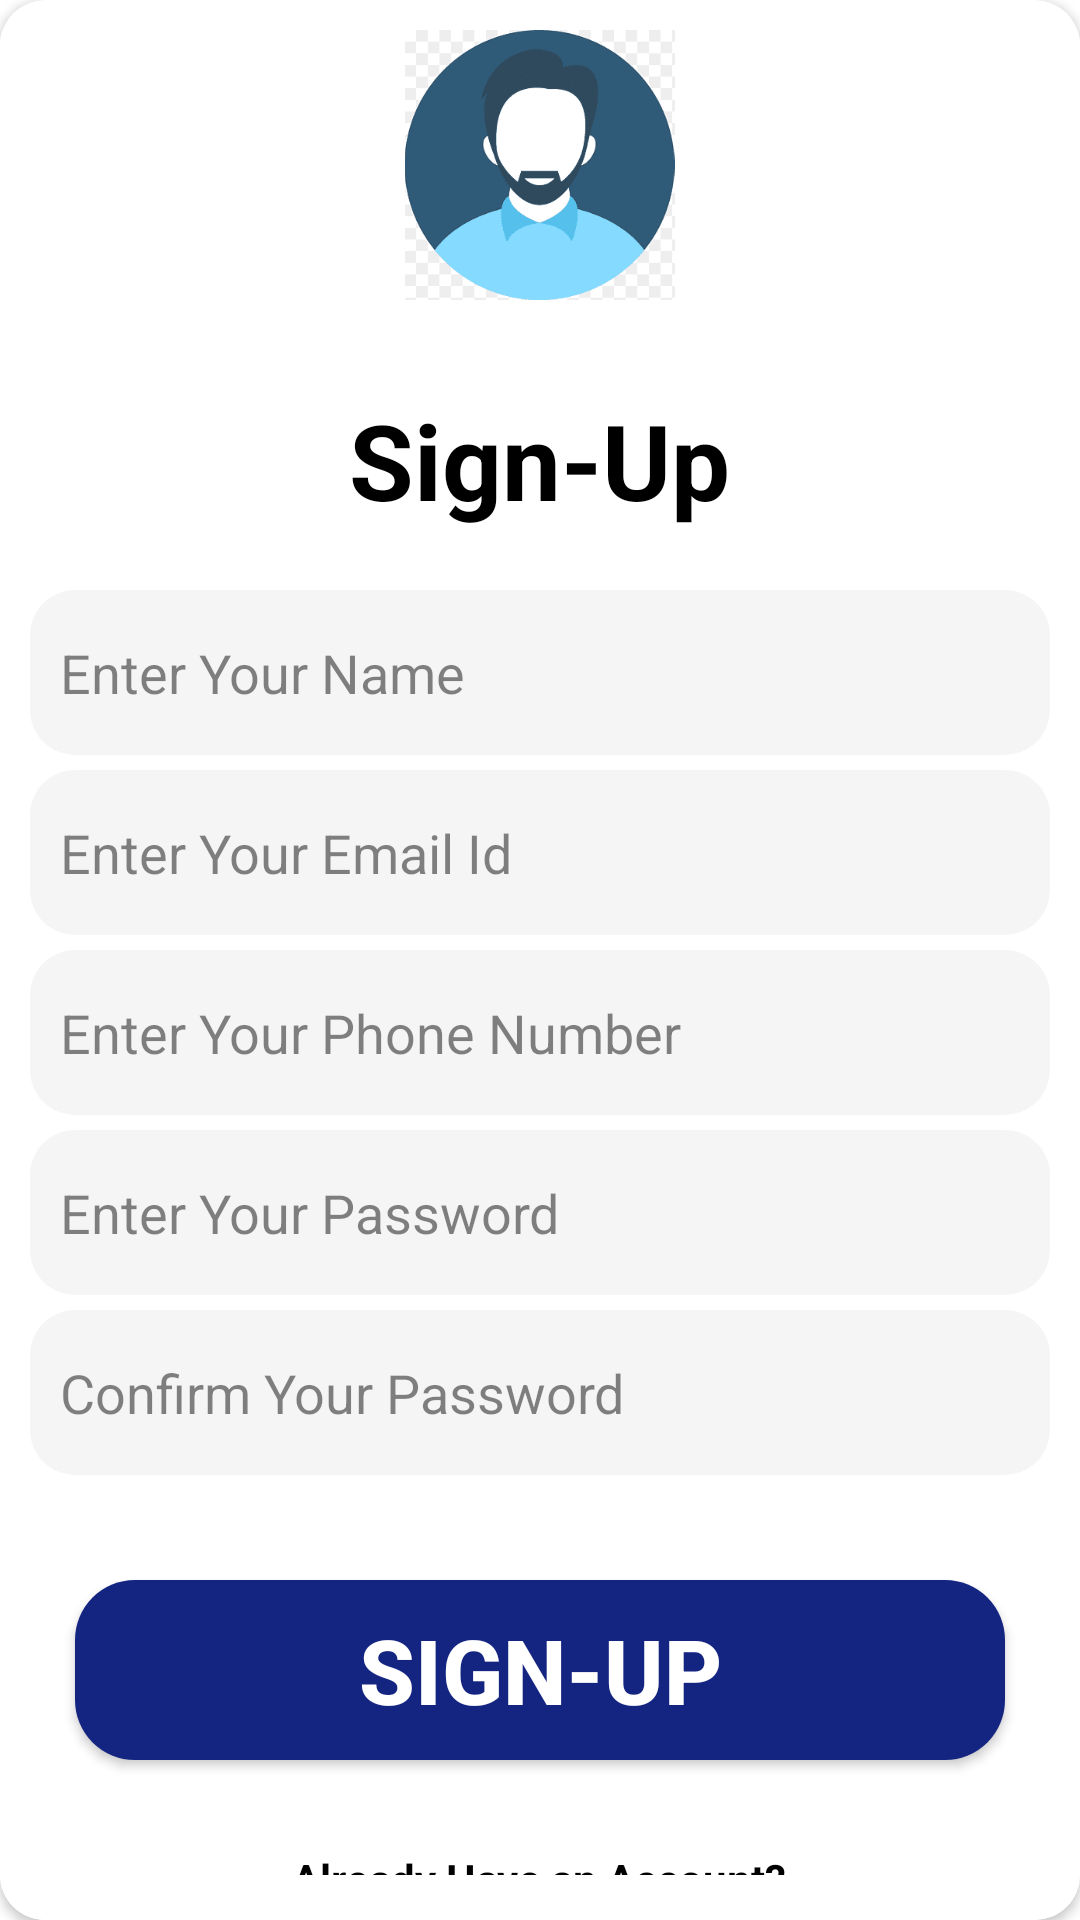

Screen size 1080*1920. Icon name, then its center in pixels as (x,y):
profile: (540,165)
